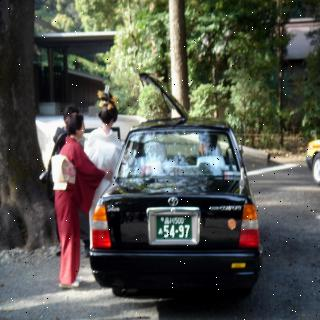license: (157, 216, 193, 241)
